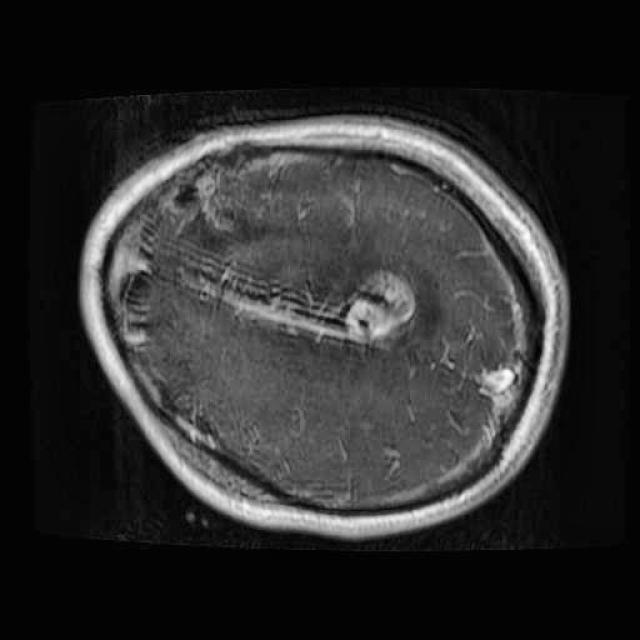Tumor: (339, 260, 421, 350)
